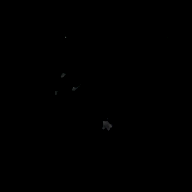v: (50, 69, 78, 95)
